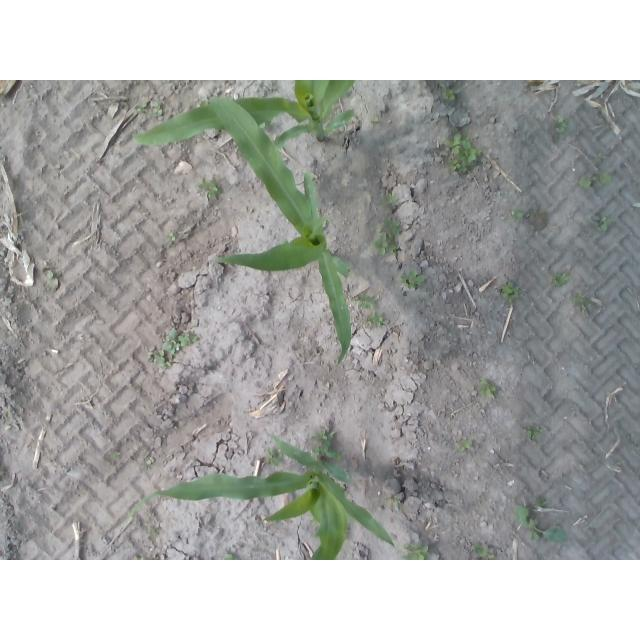Maize: (204, 96, 353, 364), (125, 433, 394, 560), (134, 80, 355, 152)
Weeds: (512, 504, 565, 543), (442, 134, 483, 173), (372, 219, 401, 258), (313, 430, 344, 463), (163, 328, 198, 355), (148, 346, 172, 371), (577, 173, 612, 190), (398, 542, 431, 560), (399, 269, 426, 289), (198, 177, 222, 199), (499, 281, 521, 304), (571, 292, 593, 314), (470, 542, 494, 560), (478, 378, 498, 399), (44, 268, 60, 293), (353, 293, 377, 309), (265, 447, 283, 467), (592, 215, 613, 232), (555, 115, 570, 138), (523, 423, 542, 441), (551, 270, 569, 289), (366, 311, 383, 328), (440, 86, 456, 103), (381, 193, 399, 206), (151, 101, 163, 118), (459, 439, 474, 452), (163, 232, 177, 245), (142, 456, 155, 470), (387, 494, 401, 506), (508, 209, 524, 219), (258, 119, 274, 129), (136, 99, 147, 113), (220, 553, 240, 560), (594, 152, 607, 162), (108, 450, 120, 459), (535, 498, 546, 507), (369, 117, 379, 124)
